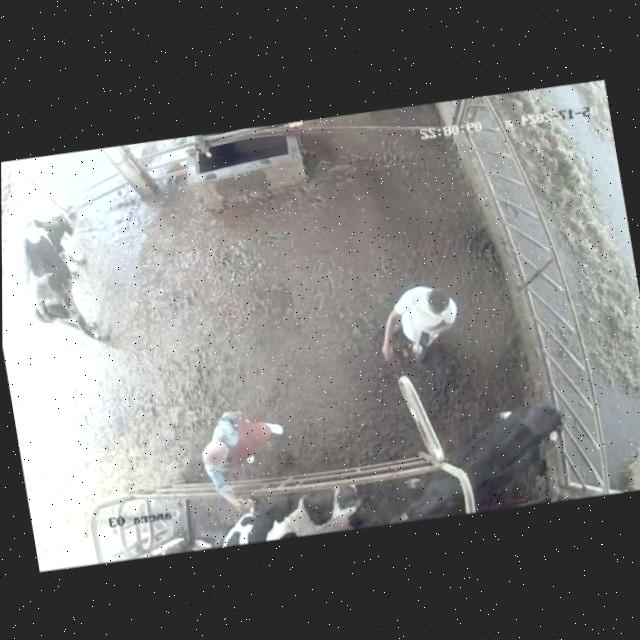stand: (372, 393, 579, 548), (1, 196, 119, 376), (184, 471, 372, 575)
